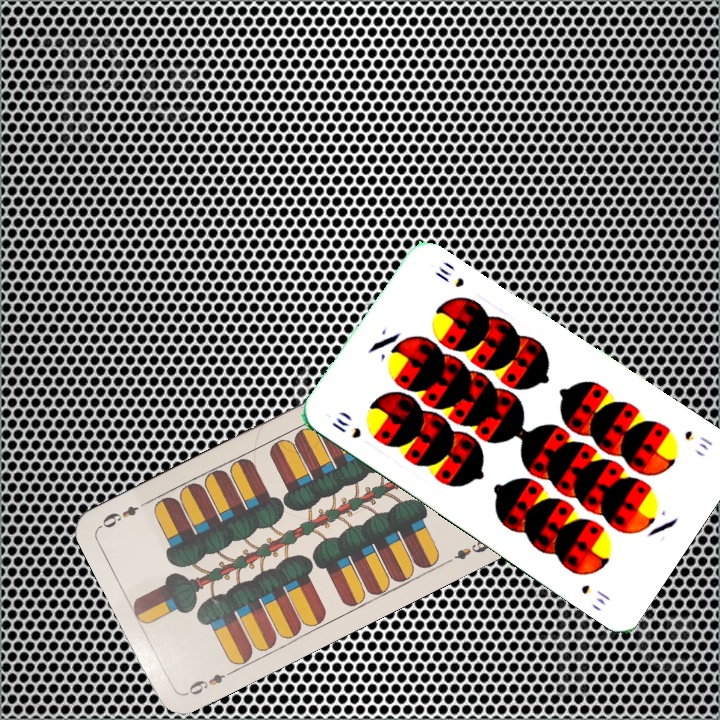E9: (181, 666, 237, 698)
S10: (327, 413, 364, 441), (680, 426, 716, 453)
